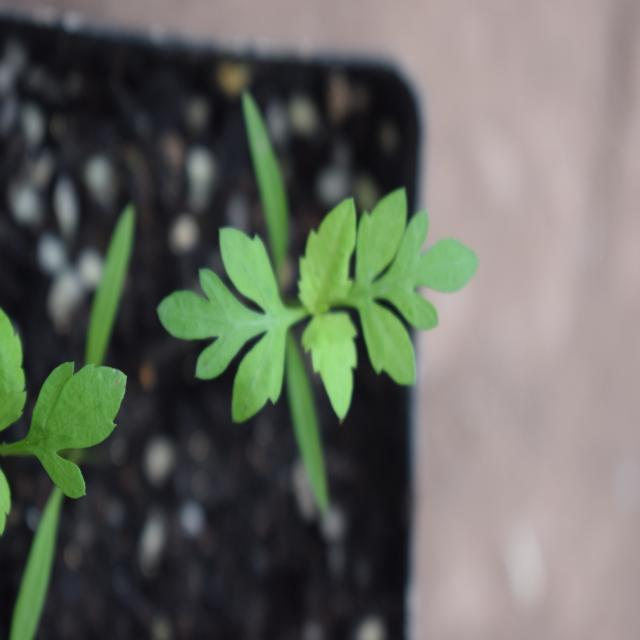Bidens pilosa: (180, 158, 460, 453)
